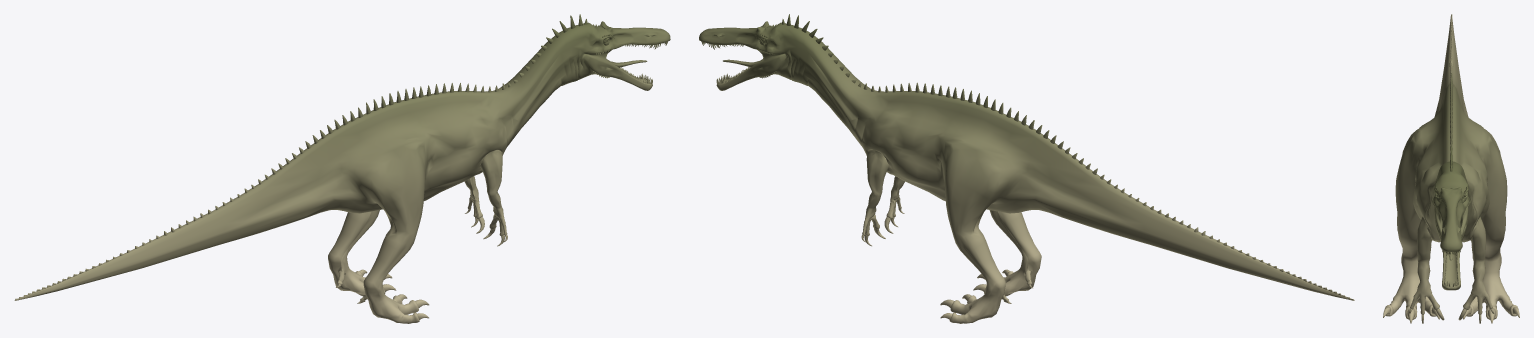
Rendered from suchomimus.glb.
3 views of the same model, side by side, from view 1: azimuth 30°, elevation 25°; view 2: azimuth 150°, elevation 25°; view 3: azimuth 270°, elevation 25° (orthographic). The views are drawn at different scales.
Visible parts, largest first — view 1: suchomimus; view 2: suchomimus; view 3: suchomimus.
Part boxes in pixels (box(x1,y1,x2,y2)): suchomimus: box(14, 14, 670, 323); suchomimus: box(699, 14, 1354, 323); suchomimus: box(1383, 14, 1519, 323).
Bounding box in the file's own units: 14.51 × 5.13 × 2.39.
